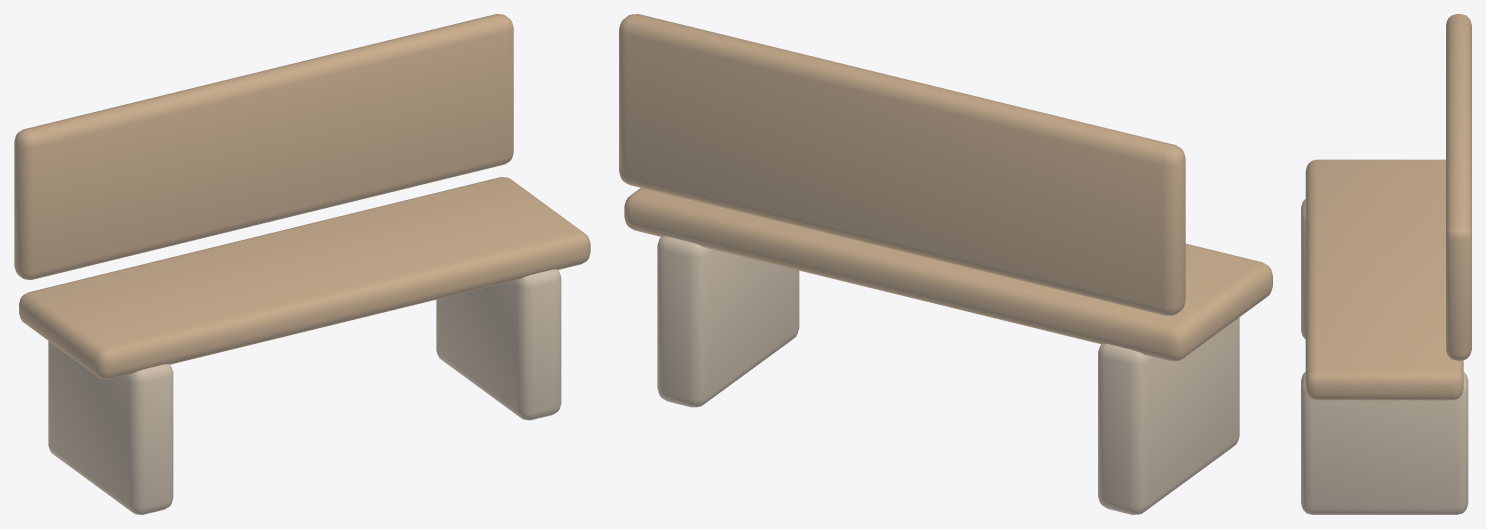
Rendered from castle_detail_bench_purified.glb.
The picture shows the model from 3 angles, left to right: view 1: azimuth 30°, elevation 25°; view 2: azimuth 150°, elevation 25°; view 3: azimuth 270°, elevation 25°; orthographic projection. The views are drawn at different scales.
Visible parts, largest first — view 1: castle_detail_bench_purified_surface; view 2: castle_detail_bench_purified_surface; view 3: castle_detail_bench_purified_surface.
Part boxes in pixels (bbox=[...]): castle_detail_bench_purified_surface: bbox=[14, 14, 590, 514]; castle_detail_bench_purified_surface: bbox=[619, 14, 1272, 514]; castle_detail_bench_purified_surface: bbox=[1301, 14, 1471, 514].
Size of the model in its own units: 2.8 by 1.8 by 0.92.
